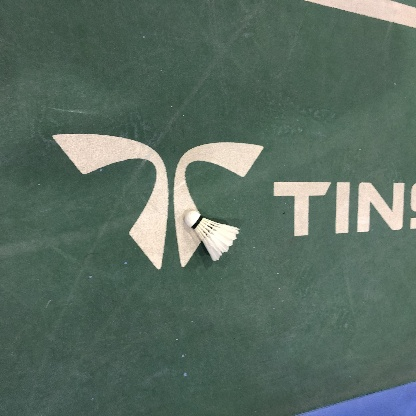ball_single: (185, 211, 240, 261)
